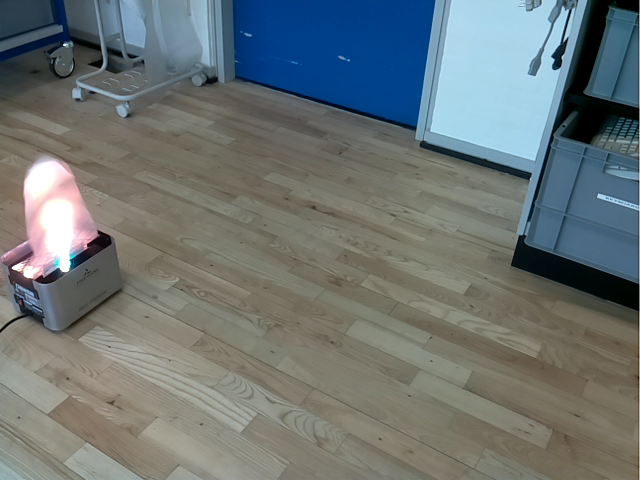fire: (20, 154, 100, 279)
